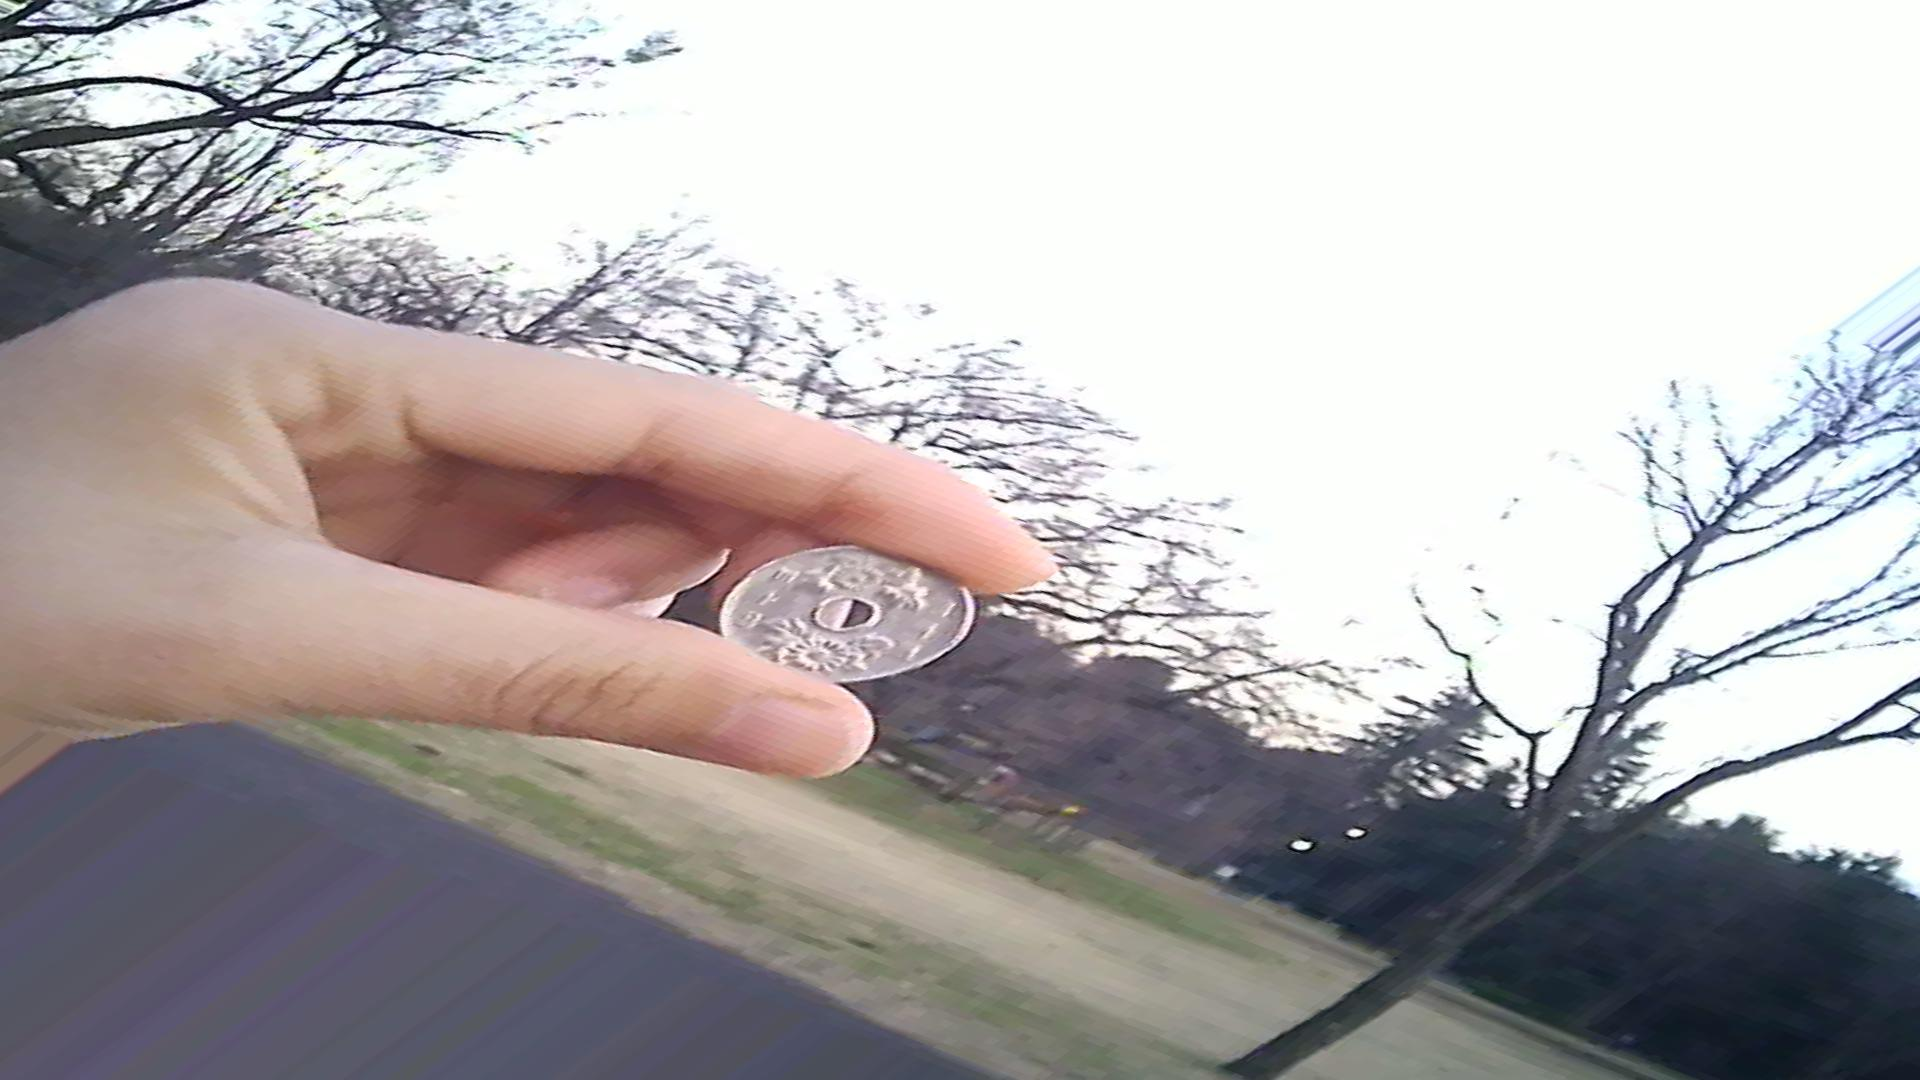50 Yen: (715, 520, 1009, 707)
